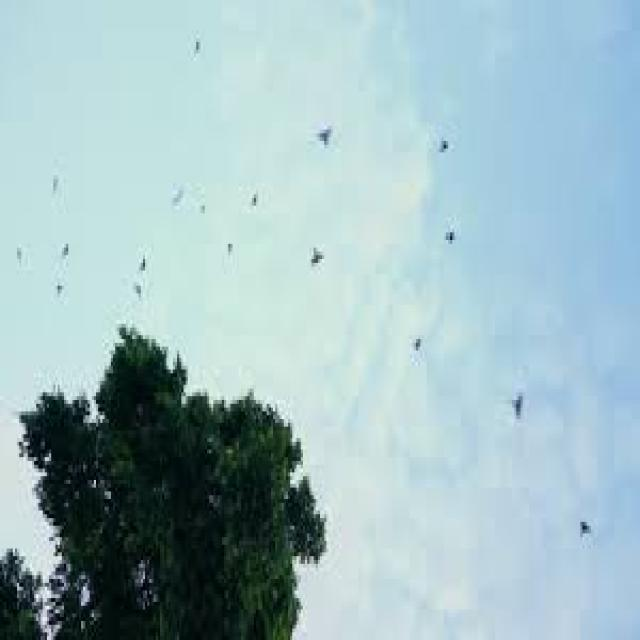bird: (292, 88, 373, 202), (240, 164, 276, 240), (426, 110, 464, 180), (437, 202, 474, 267), (500, 380, 541, 430), (416, 324, 450, 374), (300, 224, 330, 278), (572, 504, 604, 550), (190, 22, 207, 76), (216, 242, 246, 272), (10, 239, 34, 274), (124, 280, 158, 301), (44, 168, 66, 199), (57, 236, 78, 264), (168, 182, 186, 212), (51, 277, 75, 298), (136, 252, 154, 274)
